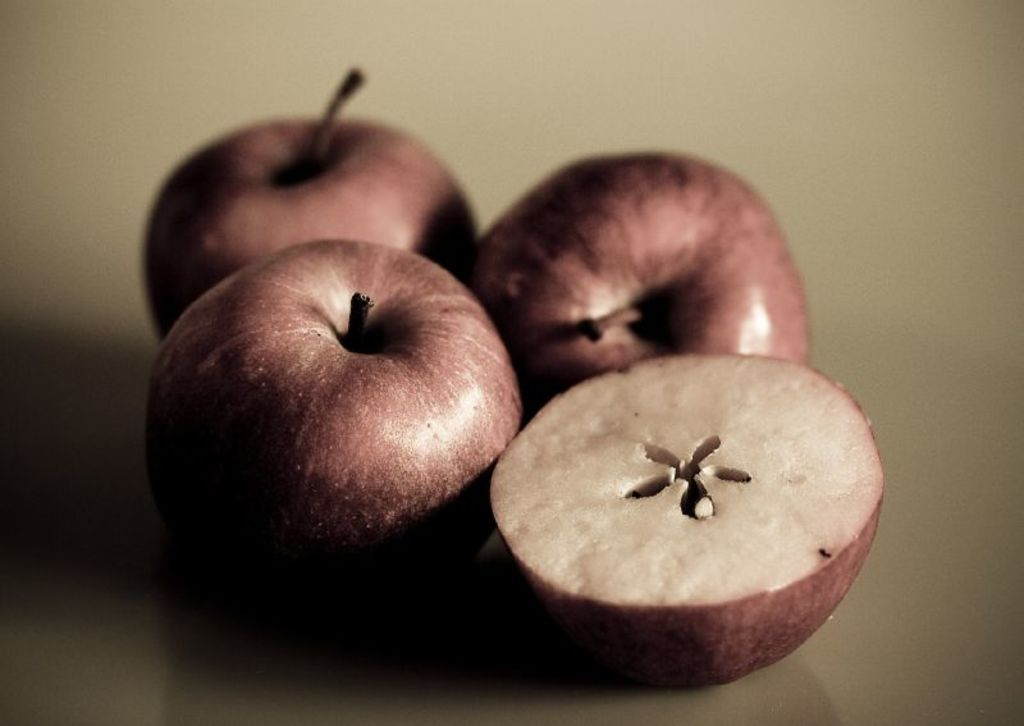Apple: (481, 343, 894, 687), (145, 238, 541, 596), (474, 133, 823, 413), (151, 66, 500, 339)
